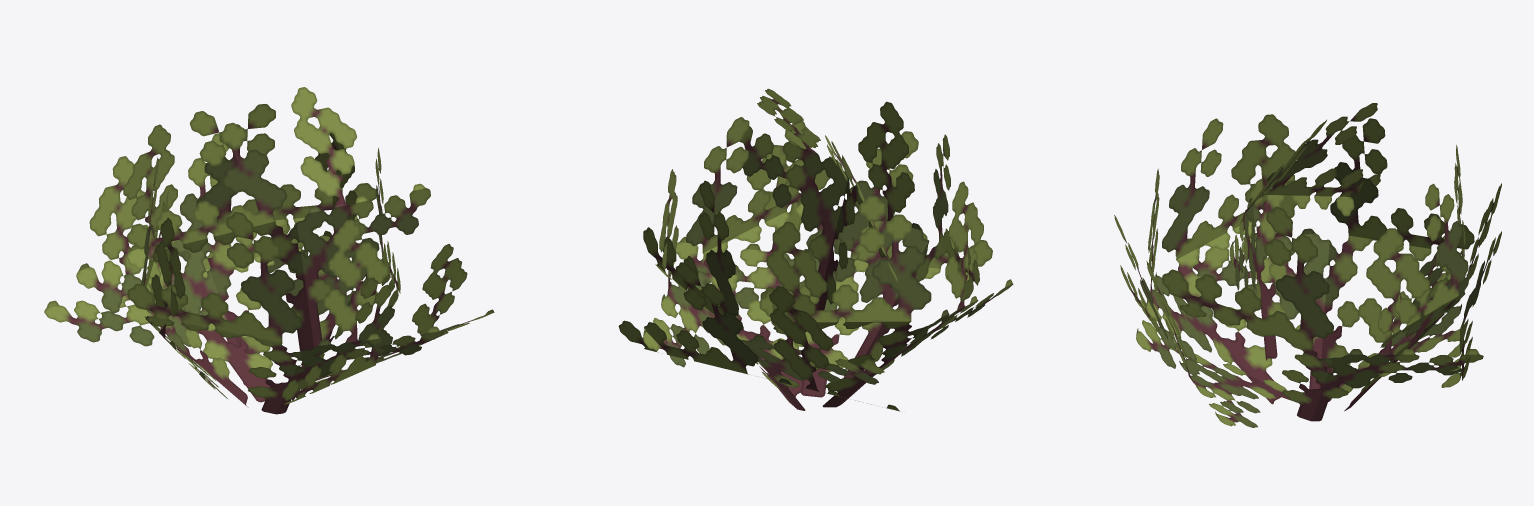
The model's file is bush_01.fbx.
3 renders of one model, left to right at view 1: azimuth 30°, elevation 25°; view 2: azimuth 150°, elevation 25°; view 3: azimuth 270°, elevation 25°, orthographic. The views are drawn at different scales.
Parts seen in each view (by area): view 1: bush_01; view 2: bush_01; view 3: bush_01.
Boxes of the visible parts, x1,y1,x2,y2 form: bush_01: (44,87,494,414); bush_01: (618,88,1013,411); bush_01: (1114,103,1501,427).
Bounding box in the file's own units: 394 × 378 × 409.
1 material, 1 textured.
